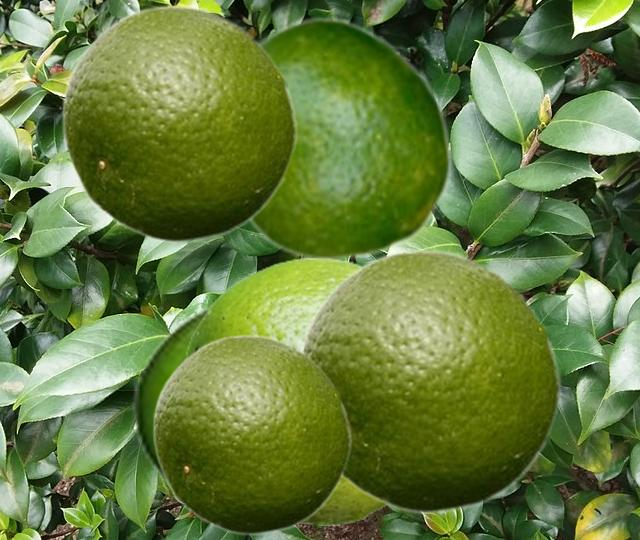calamansi: (298, 246, 561, 514), (61, 2, 297, 243), (183, 257, 388, 524), (249, 15, 453, 261), (152, 332, 351, 535), (131, 300, 213, 499)
